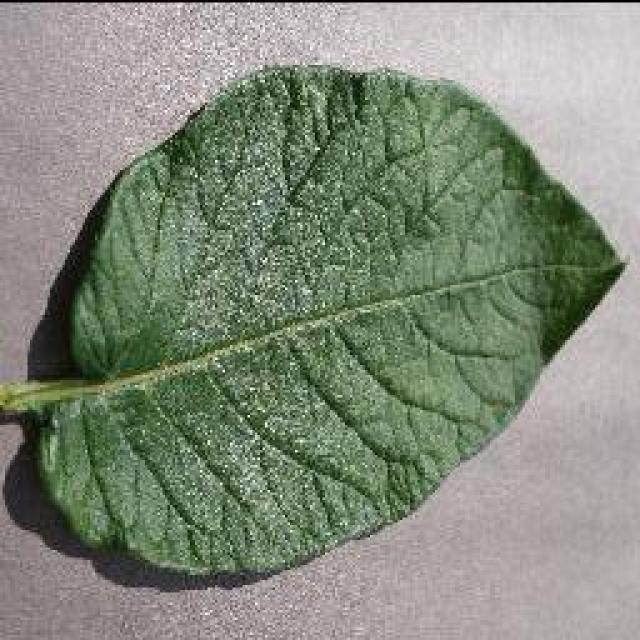Potato___healthy: (0, 63, 633, 581)
